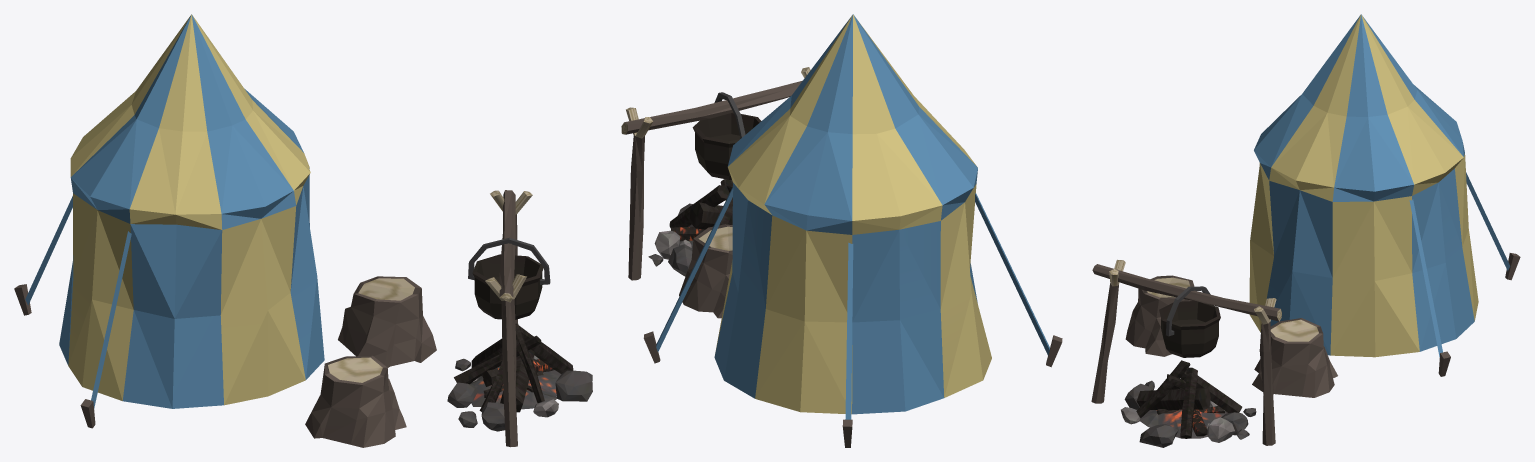
Rendered from friendlyCamper.fbx.
3 renders of one model, left to right at view 1: azimuth 30°, elevation 25°; view 2: azimuth 150°, elevation 25°; view 3: azimuth 270°, elevation 25°, orthographic. The views are drawn at different scales.
Parts seen in each view (by area): view 1: friendlyCamper; view 2: friendlyCamper; view 3: friendlyCamper.
Part boxes in pixels (left/top/right/bottom): friendlyCamper: left=14, top=14, right=592, bottom=447; friendlyCamper: left=621, top=14, right=1062, bottom=447; friendlyCamper: left=1091, top=14, right=1520, bottom=447.
Size of the model in its own units: 2.7 by 2.13 by 2.59.
